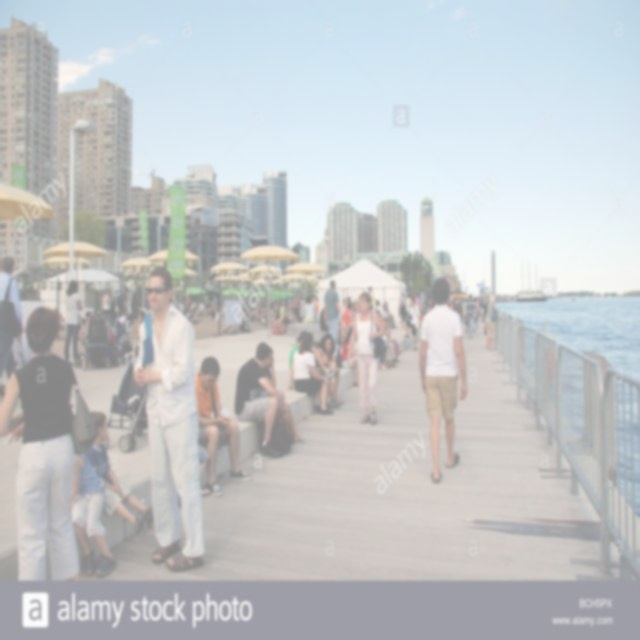pessoa: (0, 304, 99, 580), (131, 264, 207, 574), (418, 276, 468, 486), (82, 411, 154, 535), (194, 355, 253, 497), (172, 276, 302, 338), (233, 340, 291, 460), (68, 452, 118, 578), (346, 290, 388, 426), (262, 345, 308, 444), (282, 331, 335, 416), (288, 329, 340, 412), (0, 255, 23, 398), (367, 286, 400, 371), (313, 332, 344, 406), (63, 279, 83, 368), (323, 279, 345, 345), (342, 326, 361, 388), (470, 293, 490, 350), (402, 296, 422, 352), (484, 293, 501, 352), (197, 444, 210, 498), (138, 290, 150, 340), (465, 293, 477, 339), (115, 286, 130, 318), (408, 290, 426, 316), (302, 294, 316, 324), (342, 296, 360, 318), (342, 300, 356, 328), (318, 305, 331, 333), (472, 297, 481, 335), (446, 295, 462, 316), (271, 312, 285, 335), (280, 310, 292, 336), (310, 293, 320, 324), (398, 292, 407, 326), (130, 292, 140, 321), (101, 290, 112, 316), (462, 298, 469, 334), (456, 298, 464, 326), (292, 294, 300, 320), (404, 292, 412, 313), (426, 298, 434, 314), (0, 263, 4, 274), (24, 284, 28, 294), (80, 264, 86, 268), (462, 296, 465, 301), (74, 264, 76, 268)
